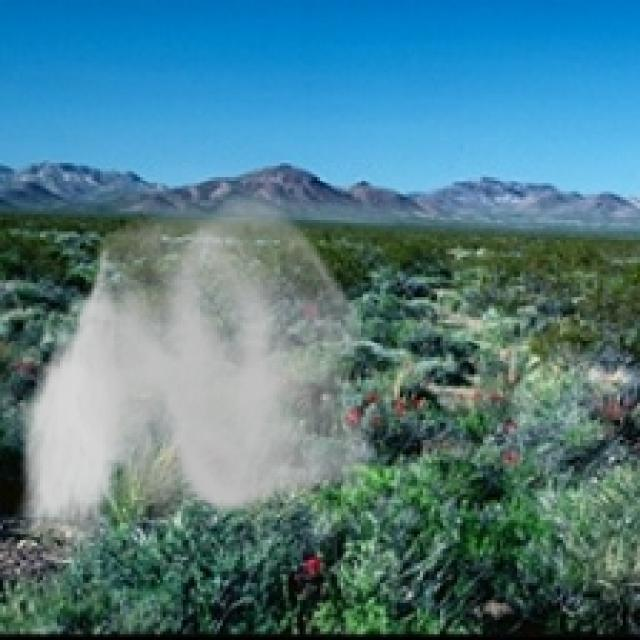smoke: (14, 189, 377, 554)
